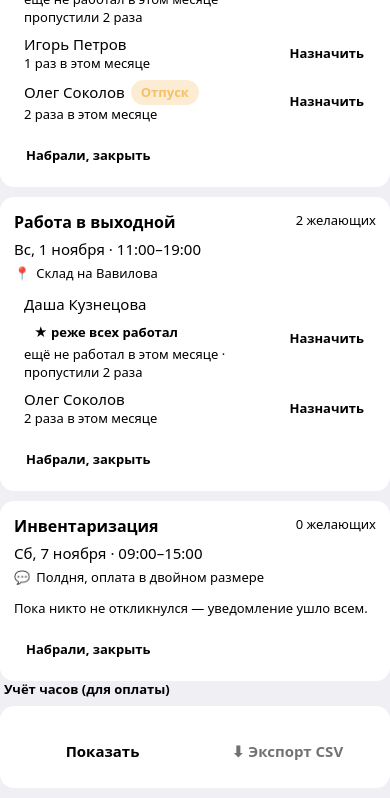
Test: отказ «Учёта часов» остаётся в «Учёте часов» › «Показать» получил отказ — причина написана там же, а не над списком слотов
(page scrolled)
Click the button "Показать" at (102, 752), box [14,730,191,774]
(page scrolled)
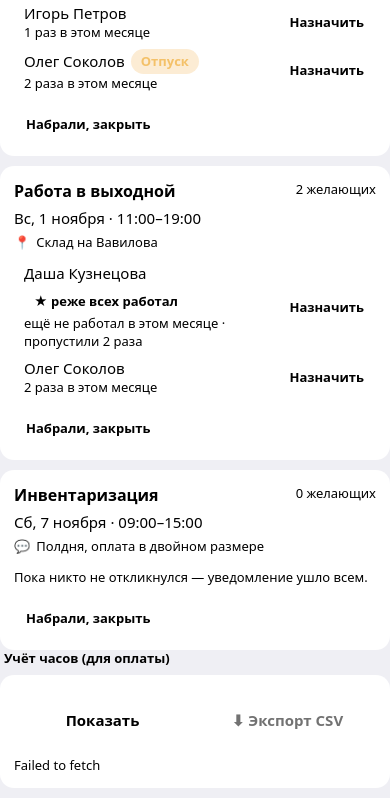
Expected: the text "Failed to fetch" is shown, [14,756,100,774]
